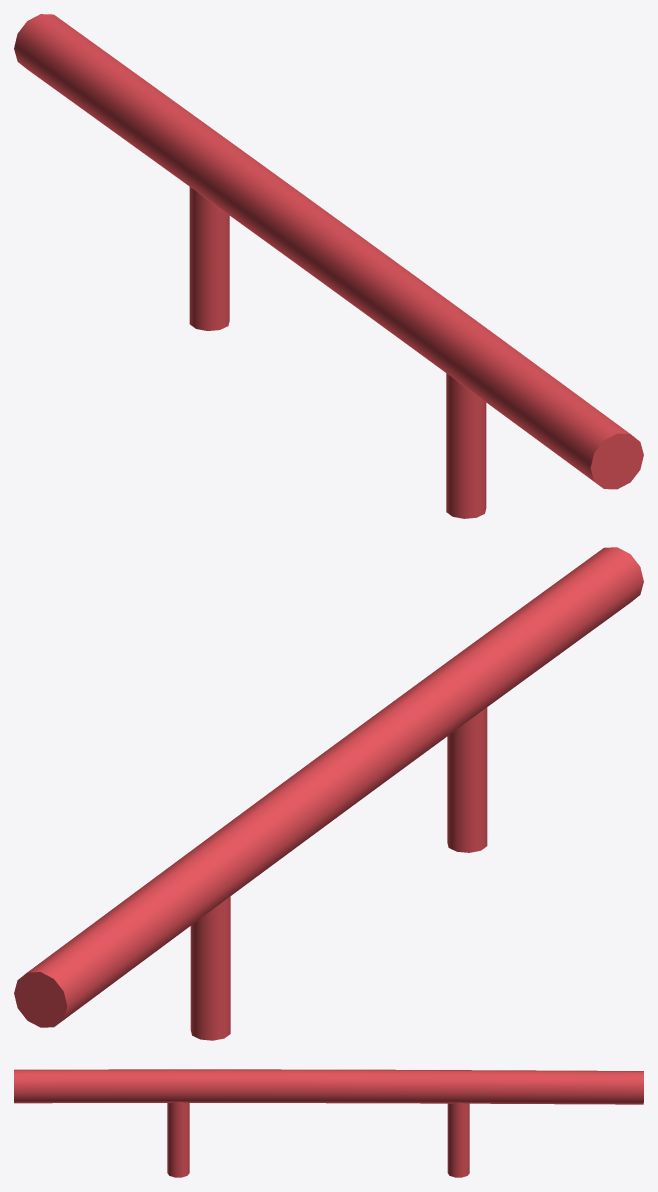
The model's file is rail_normal.glb.
The picture shows the model from 3 angles, top to bottom: view 1: azimuth 30°, elevation 25°; view 2: azimuth 150°, elevation 25°; view 3: azimuth 270°, elevation 25°; orthographic projection. The views are drawn at different scales.
Parts seen in each view (by area): view 1: Cylinder.020; view 2: Cylinder.020; view 3: Cylinder.020.
Boxes of the visible parts, box(x1,y1,x2,y2) form: Cylinder.020: box(14, 14, 643, 518); Cylinder.020: box(14, 547, 643, 1040); Cylinder.020: box(14, 1069, 643, 1177).
Bounding box in the file's own units: 0.8 × 2.68 × 14.96.
